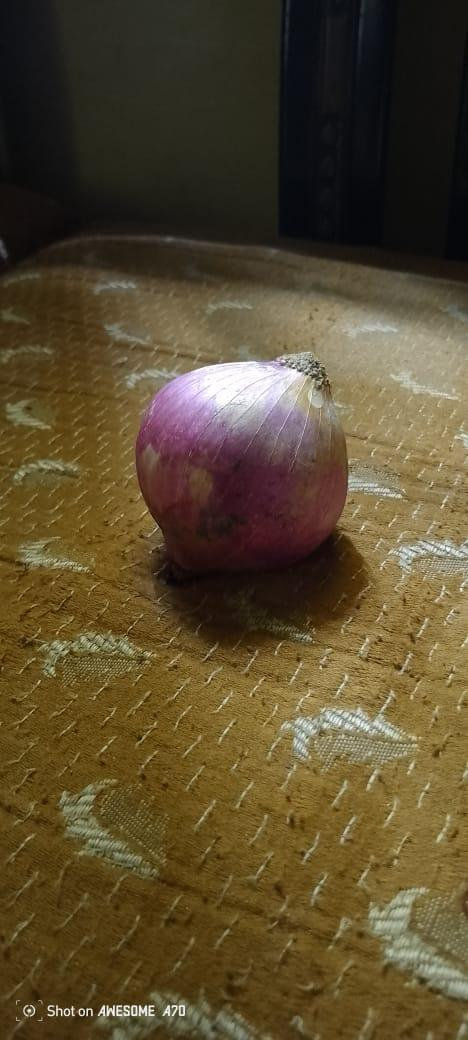non-mango: (133, 331, 356, 574)
